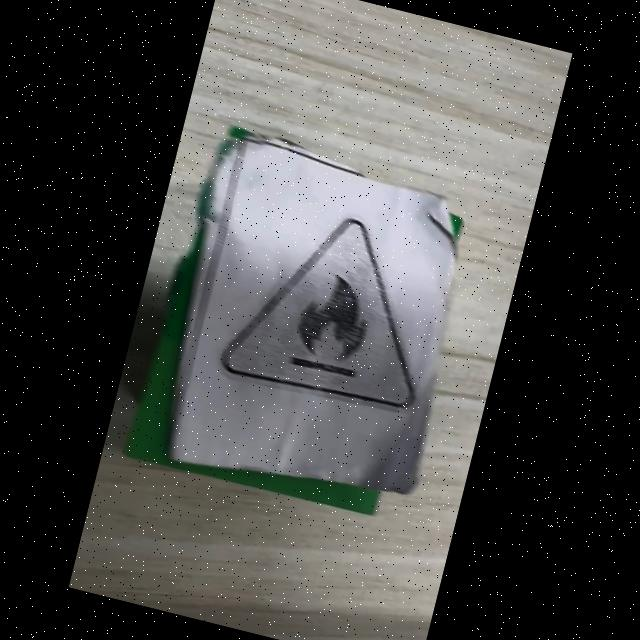Fire: (222, 218, 413, 408)
